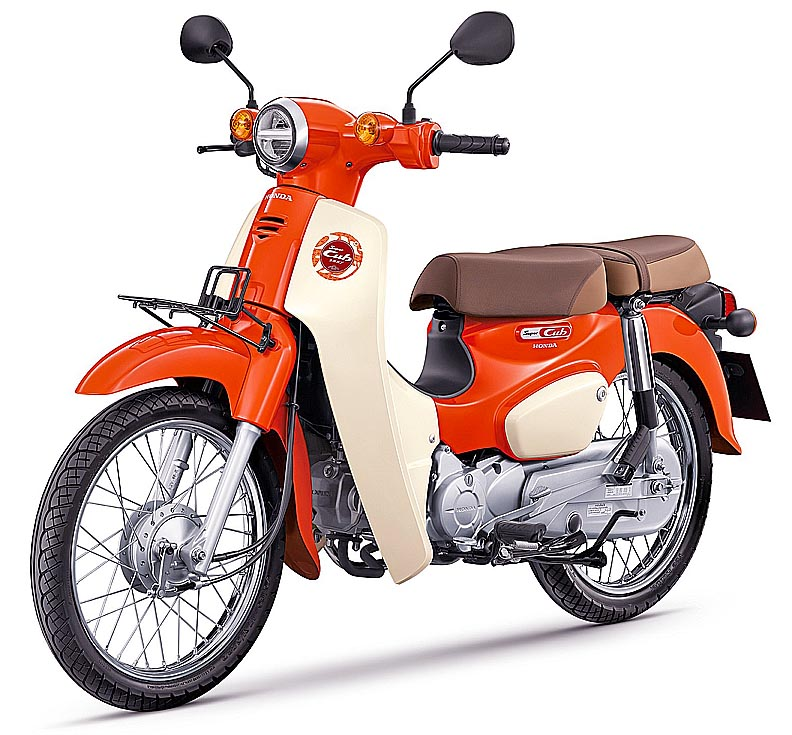motorcycle: (33, 88, 748, 710)
